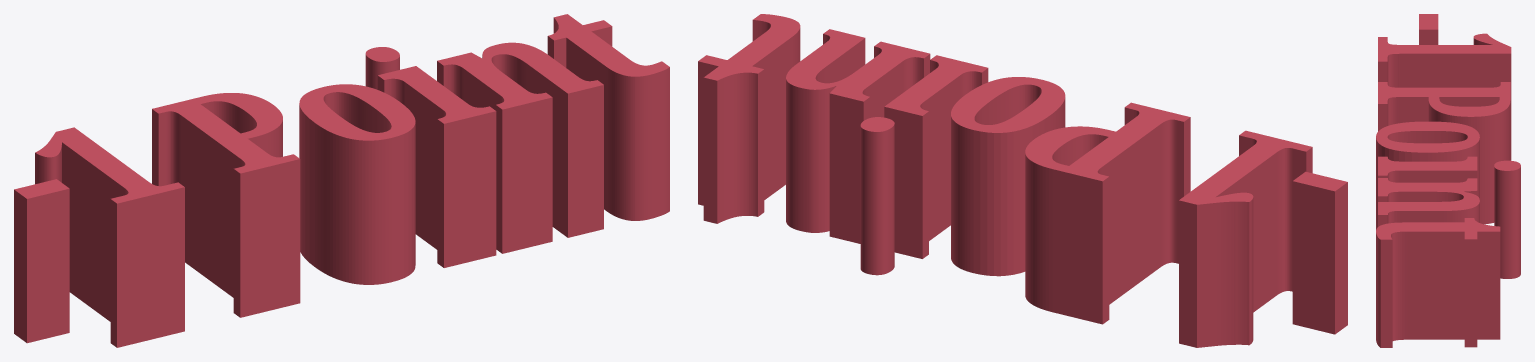
The model's file is smallneg.gltf.
3 renders of one model, left to right at view 1: azimuth 30°, elevation 25°; view 2: azimuth 150°, elevation 25°; view 3: azimuth 270°, elevation 25°, orthographic. The views are drawn at different scales.
Visible parts, largest first — view 1: Mesh_Mesh_head_geo.001_lambert2SG.001; view 2: Mesh_Mesh_head_geo.001_lambert2SG.001; view 3: Mesh_Mesh_head_geo.001_lambert2SG.001.
Boxes of the visible parts, x1,y1,x2,y2 form: Mesh_Mesh_head_geo.001_lambert2SG.001: (14,14,669,347); Mesh_Mesh_head_geo.001_lambert2SG.001: (698,14,1347,347); Mesh_Mesh_head_geo.001_lambert2SG.001: (1376,14,1520,347).
Size of the model in its own units: 18.44 by 4.12 by 5.
